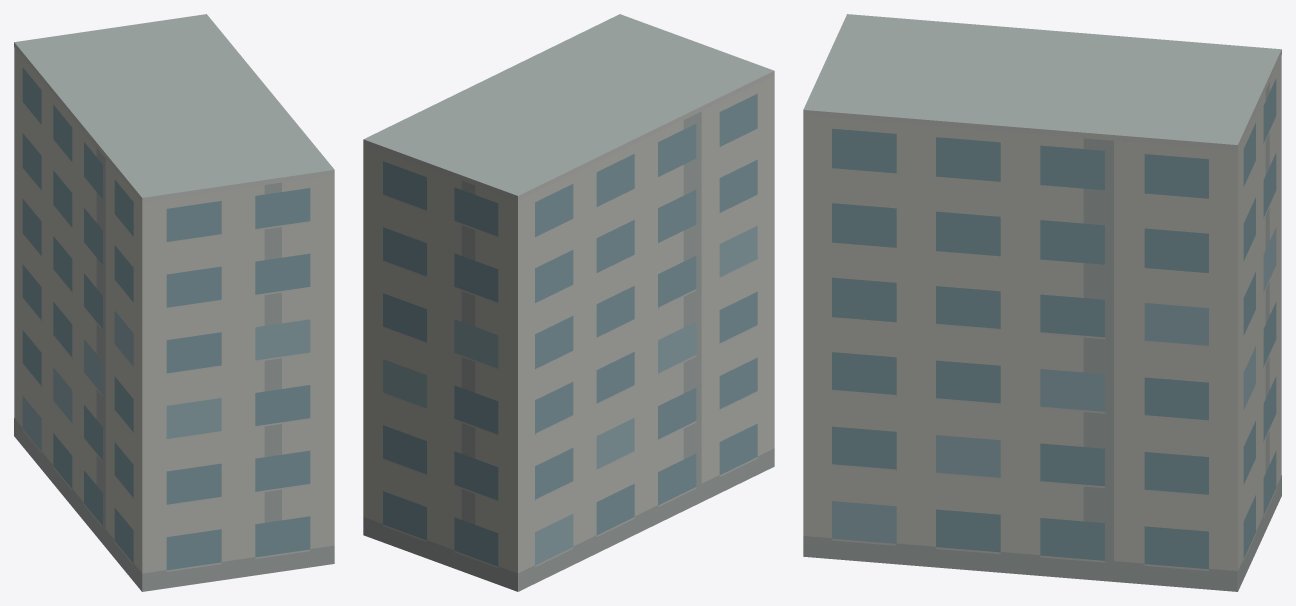
The model's file is survey-upis-32972951.glb.
3 views of the same model, side by side, from view 1: azimuth 30°, elevation 25°; view 2: azimuth 150°, elevation 25°; view 3: azimuth 270°, elevation 25° (orthographic). The views are drawn at different scales.
Visible parts, largest first — view 1: survey-upis-32972951.tmp; view 2: survey-upis-32972951.tmp; view 3: survey-upis-32972951.tmp.
Boxes of the visible parts, left/top/right/bottom form: survey-upis-32972951.tmp: left=14, top=14, right=334, bottom=591; survey-upis-32972951.tmp: left=363, top=14, right=774, bottom=591; survey-upis-32972951.tmp: left=803, top=14, right=1281, bottom=591.
Bounding box in the file's own units: 12.03 × 19.1 × 18.55.
